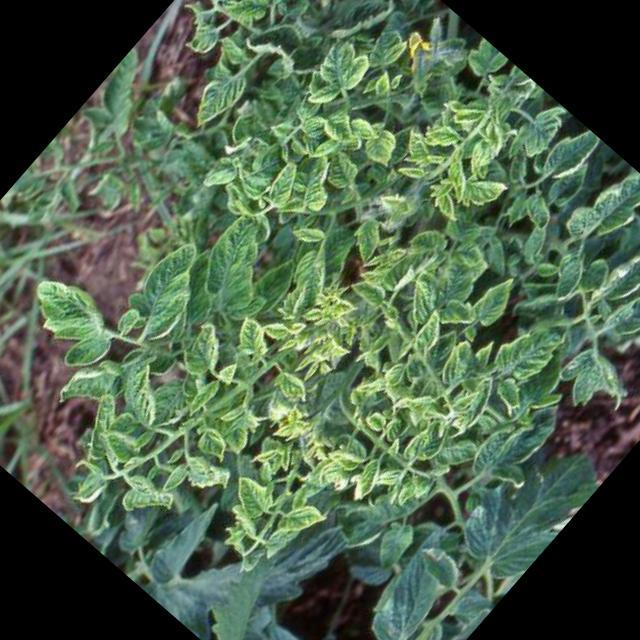Tomato yellow virus leaf: (0, 255, 132, 387), (174, 205, 293, 326), (116, 222, 232, 344), (539, 333, 640, 437), (393, 240, 493, 344), (553, 154, 640, 270), (485, 302, 576, 396), (44, 340, 132, 430), (569, 225, 640, 336), (289, 28, 376, 118), (105, 346, 188, 430), (370, 218, 450, 303), (156, 442, 238, 524), (176, 63, 254, 144), (497, 94, 574, 175), (528, 119, 604, 200), (456, 264, 532, 342), (167, 314, 238, 388), (590, 263, 640, 367), (111, 466, 181, 535), (278, 243, 342, 310), (208, 392, 272, 458), (425, 332, 487, 397), (448, 159, 508, 220), (221, 308, 281, 368), (397, 416, 455, 476), (222, 469, 280, 527), (416, 173, 474, 231), (357, 20, 414, 78), (255, 155, 311, 214), (274, 496, 330, 552), (342, 212, 396, 268), (356, 124, 410, 178), (389, 122, 442, 175), (94, 422, 147, 473), (404, 308, 454, 361), (313, 145, 364, 196), (186, 420, 236, 470), (344, 452, 394, 502), (178, 374, 226, 424), (513, 188, 561, 236), (268, 365, 315, 411), (317, 106, 363, 152), (418, 115, 462, 160), (223, 0, 275, 35)
